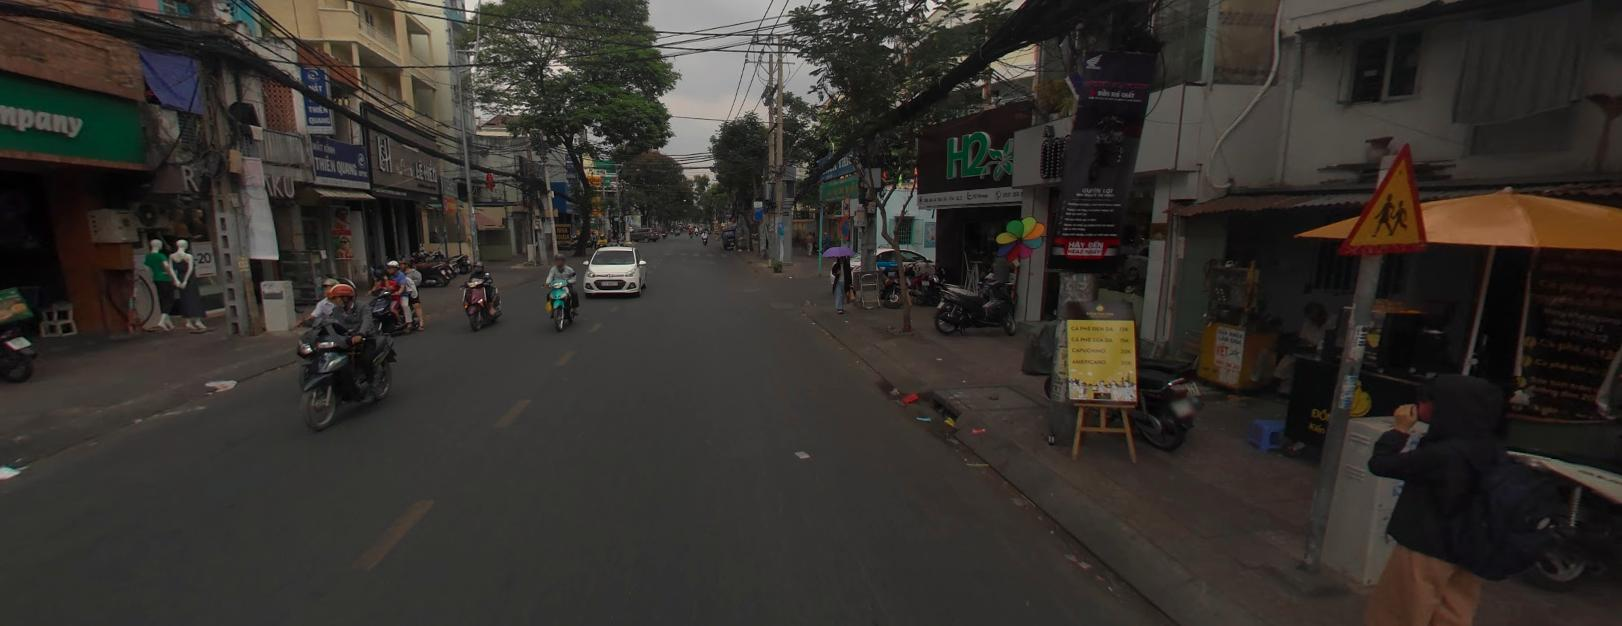Cam con lai: (841, 193, 850, 215)
Cam dung va do: (838, 216, 850, 238)
Nguy hiem: (1340, 144, 1431, 254)
